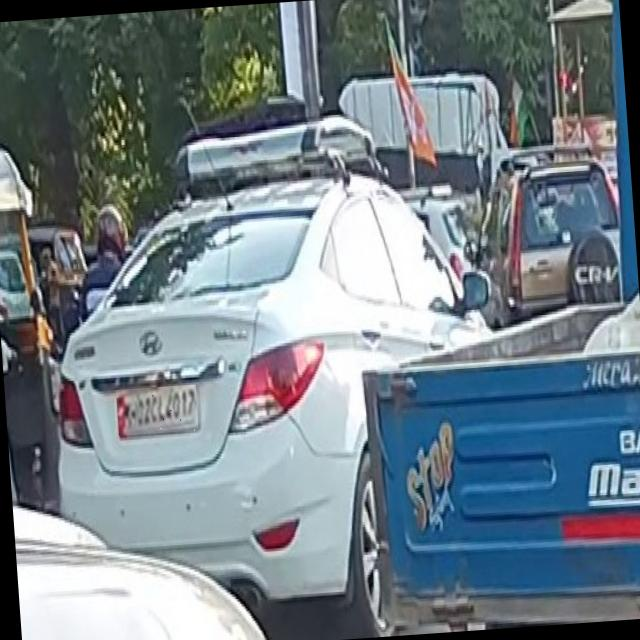Plate: (117, 385, 200, 436)
